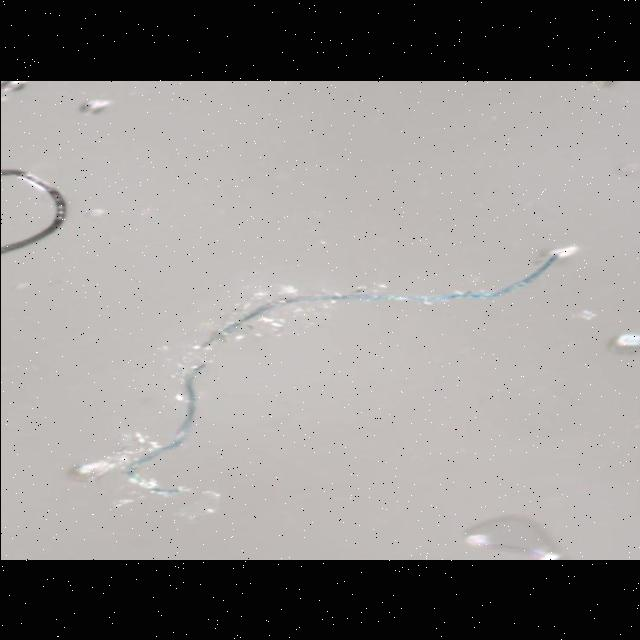Fibre: (64, 244, 578, 516)
